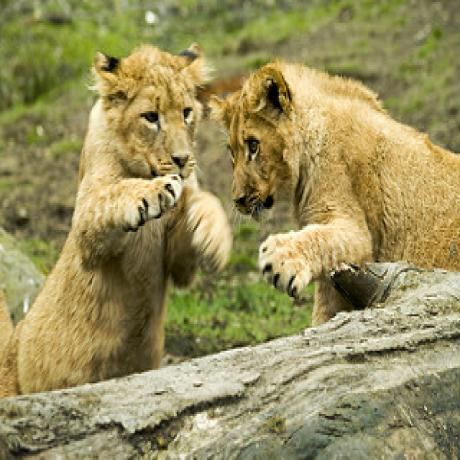Lion: (5, 43, 228, 394), (219, 56, 460, 303)
